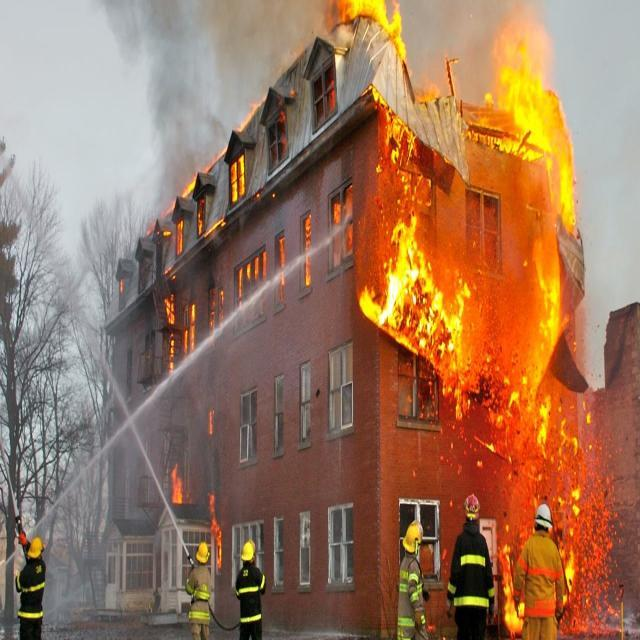Fire: (482, 235, 591, 470), (358, 212, 472, 427), (467, 42, 576, 238), (360, 84, 432, 210), (325, 0, 406, 68), (500, 522, 524, 634), (559, 488, 580, 609), (208, 493, 222, 570), (230, 154, 245, 203), (164, 295, 173, 374), (304, 212, 312, 288), (170, 462, 183, 505), (204, 218, 227, 236), (278, 236, 286, 284), (181, 178, 196, 198), (176, 218, 183, 254), (238, 266, 244, 300), (191, 303, 195, 352), (333, 202, 341, 226), (208, 410, 214, 434), (262, 249, 266, 280), (184, 329, 188, 354), (254, 256, 258, 281), (198, 212, 202, 235), (246, 261, 250, 281), (162, 230, 171, 237)
Smoke: (101, 0, 556, 226)
